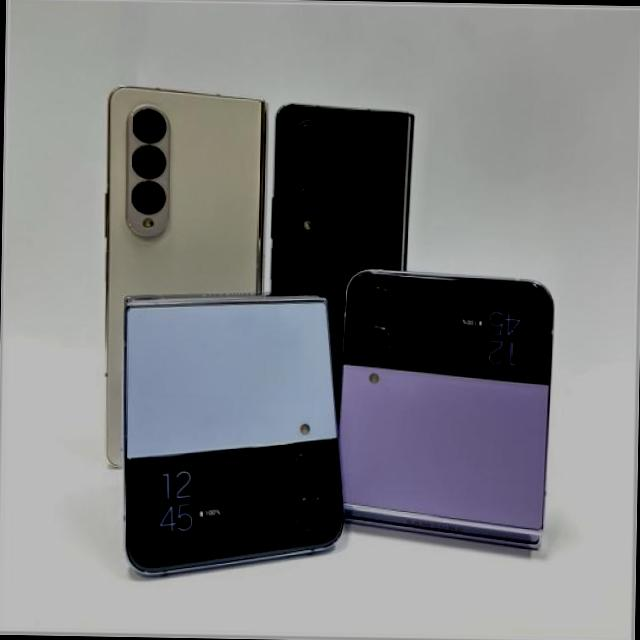lens_back: (292, 493, 330, 536), (293, 448, 326, 490), (130, 108, 168, 144), (360, 284, 396, 321), (130, 144, 167, 179), (129, 180, 166, 214), (358, 323, 392, 360), (294, 120, 326, 152), (293, 155, 326, 185), (294, 187, 324, 216)
phone: (99, 89, 271, 468), (115, 290, 344, 572), (339, 261, 557, 556), (271, 92, 418, 292)
